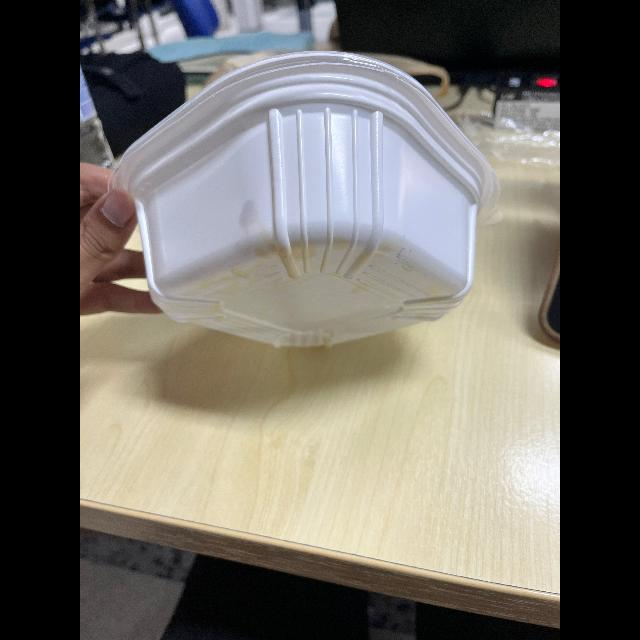plastic_box: (108, 40, 514, 366)
